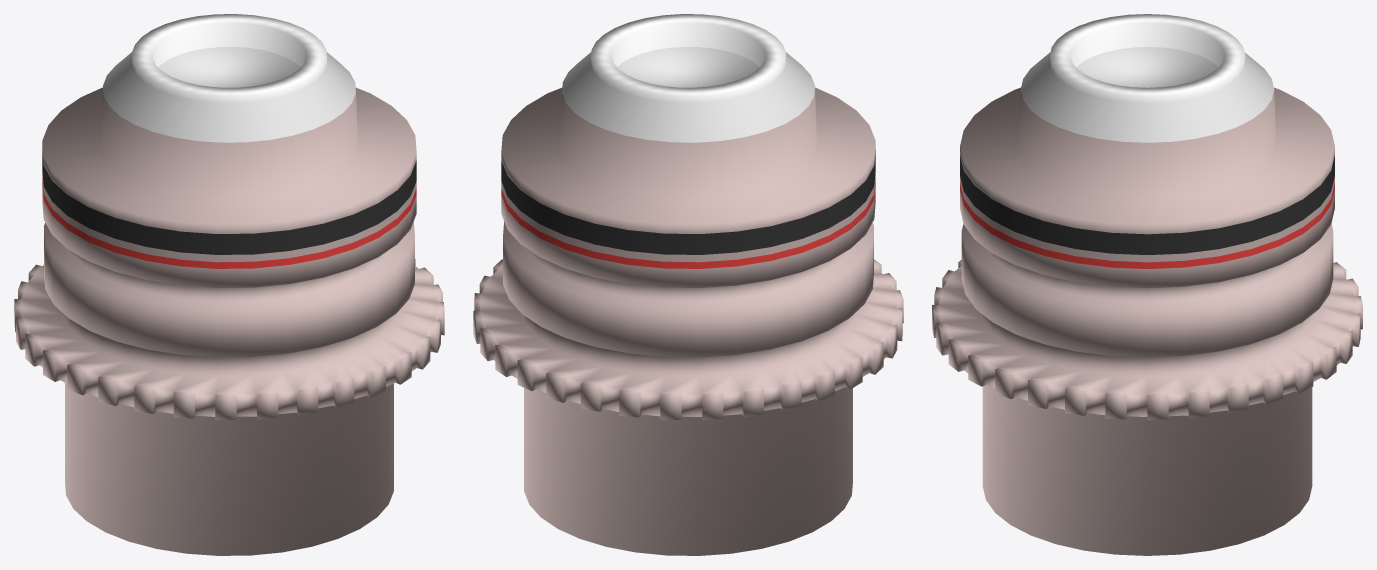
Rendered from ObjectLen.fbx.
3 views of the same model, side by side, from view 1: azimuth 30°, elevation 25°; view 2: azimuth 150°, elevation 25°; view 3: azimuth 270°, elevation 25° (orthographic).
Visible parts, largest first — view 1: 柱体.039; view 2: 柱体.039; view 3: 柱体.039.
Boxes of the visible parts, <box> form: 柱体.039: <box>14,14,444,555</box>; 柱体.039: <box>473,14,903,555</box>; 柱体.039: <box>932,14,1362,555</box>.
Size of the model in its own units: 88.96 by 98.22 by 88.96.
